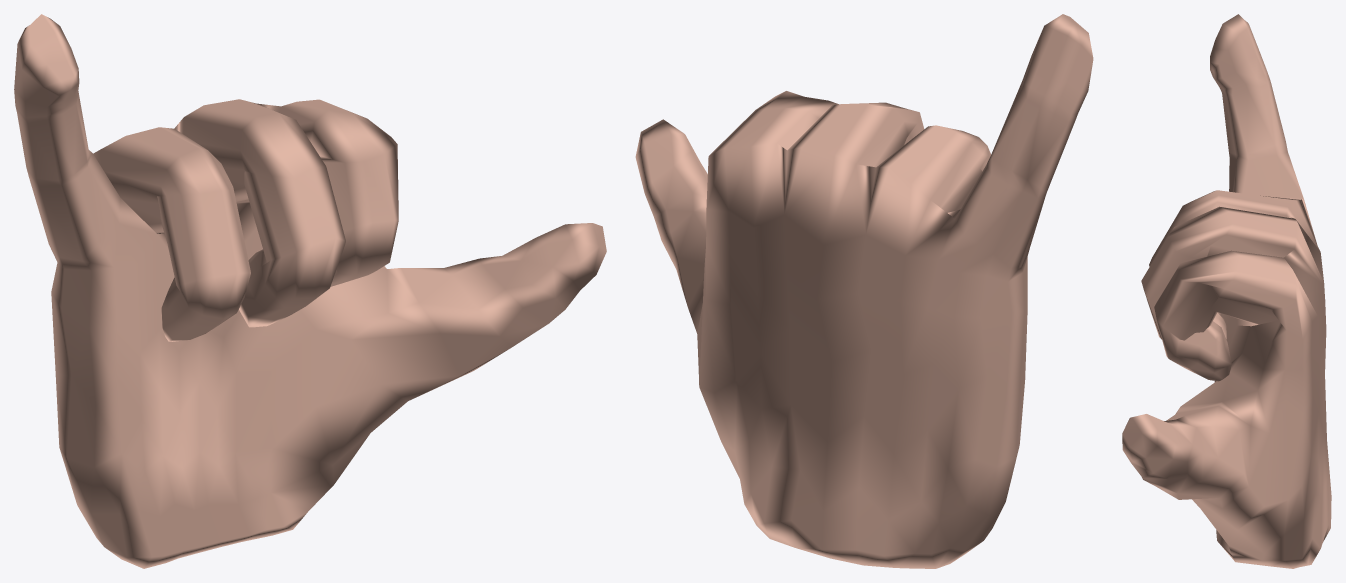
Rendered from MAO_Y.obj.
The picture shows the model from 3 angles, left to right: view 1: azimuth 30°, elevation 25°; view 2: azimuth 150°, elevation 25°; view 3: azimuth 270°, elevation 25°; orthographic projection. The views are drawn at different scales.
Visible parts, largest first — view 1: mao_dir:mao_dir; view 2: mao_dir:mao_dir; view 3: mao_dir:mao_dir.
Part boxes in pixels (box(x1,y1,x2,y2)): mao_dir:mao_dir: box(14, 14, 606, 568); mao_dir:mao_dir: box(635, 14, 1093, 568); mao_dir:mao_dir: box(1122, 14, 1331, 568).
Bounding box in the file's own units: 199 × 208 × 87.
